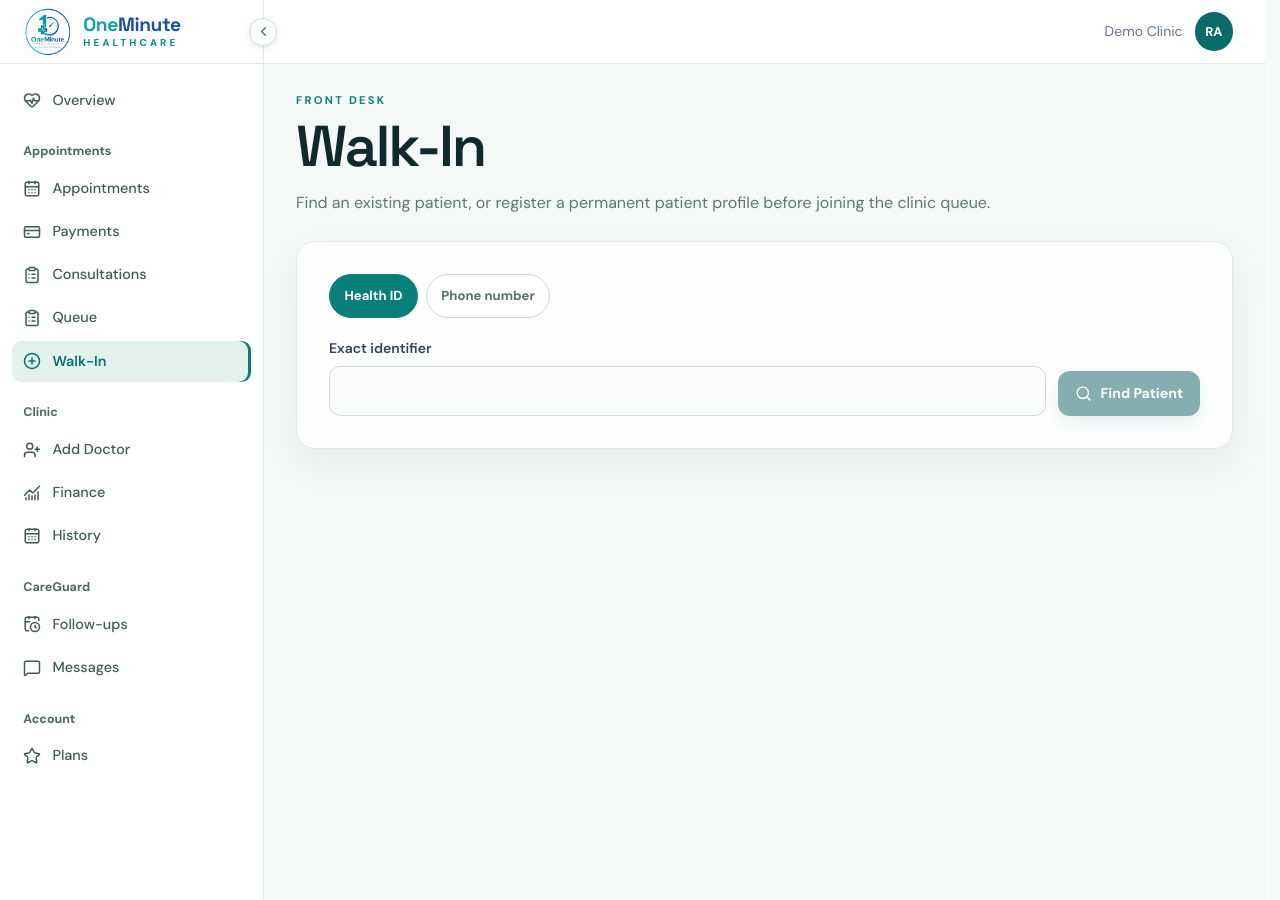
Test: Receptionist frontend › performs exact patient lookup and sends protected walk-in fields only
Type "OM-TEST" into the field labelled "Exact identifier" at (687, 391), box x1=329 y1=366 x2=1046 y2=416
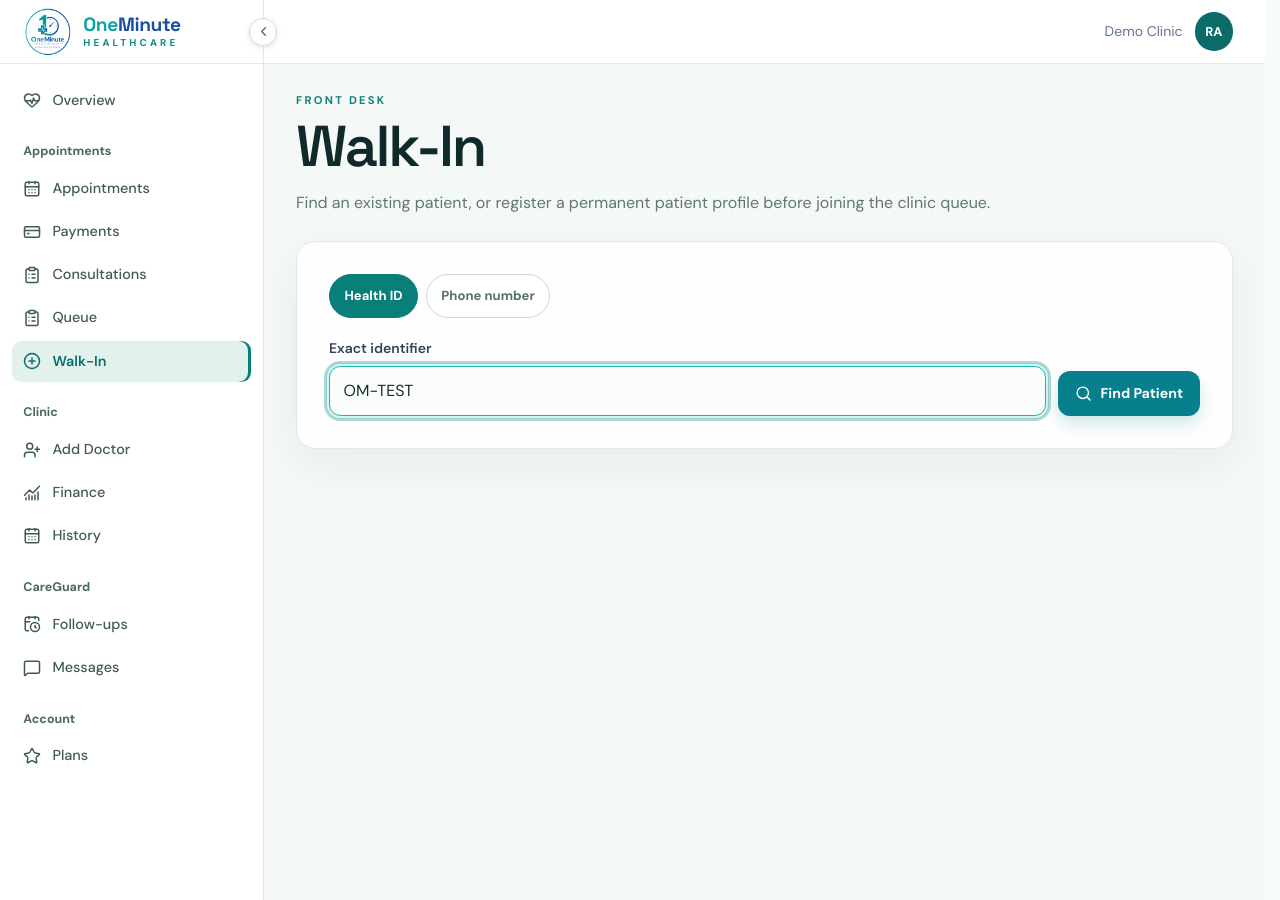
Click the button "Find Patient" at (1129, 393), box x1=1058 y1=371 x2=1200 y2=416
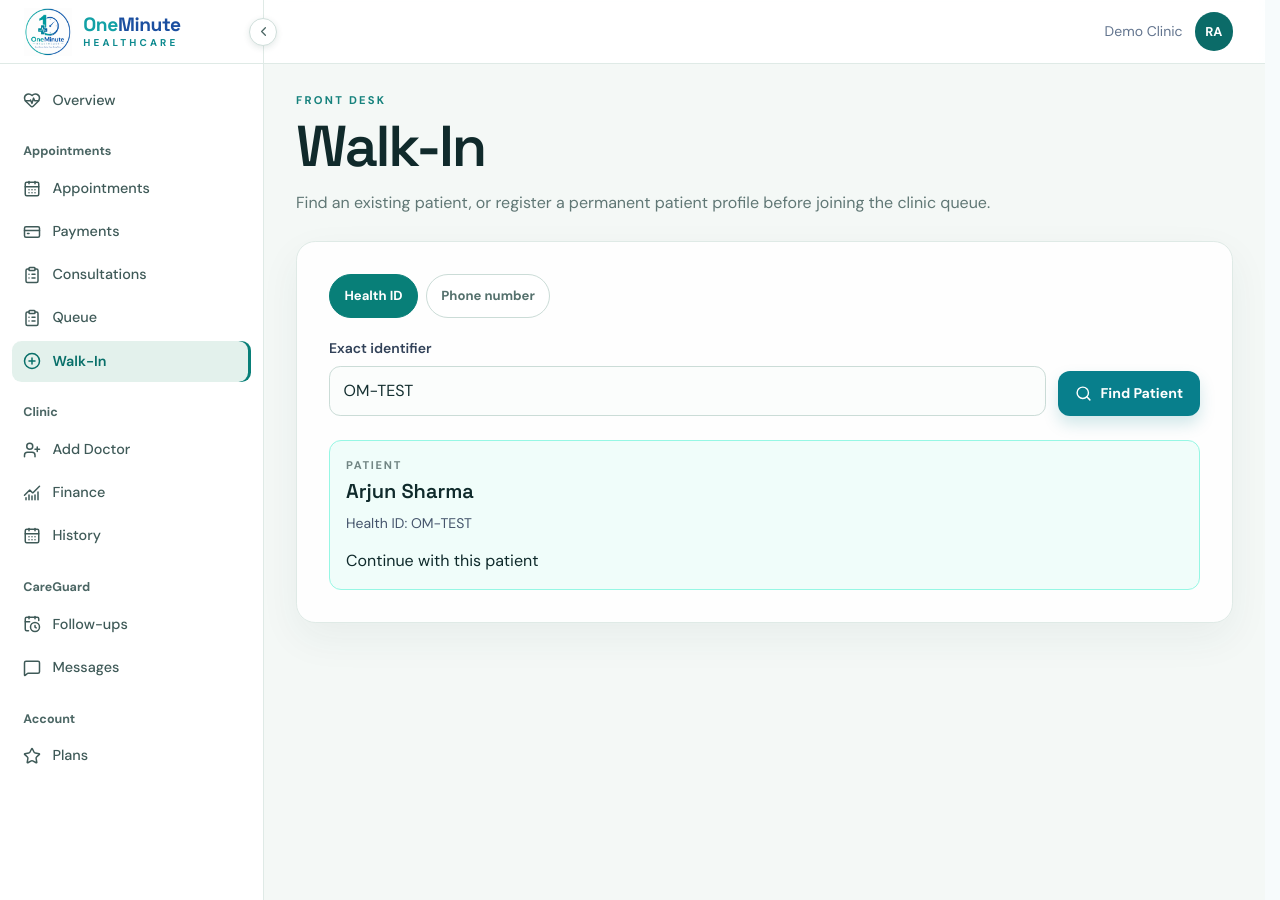
Expected: the text "Arjun Sharma" is shown, x1=346 y1=478 x2=474 y2=504
Click the button "Continue with this patient" at (442, 562), box x1=346 y1=550 x2=538 y2=574
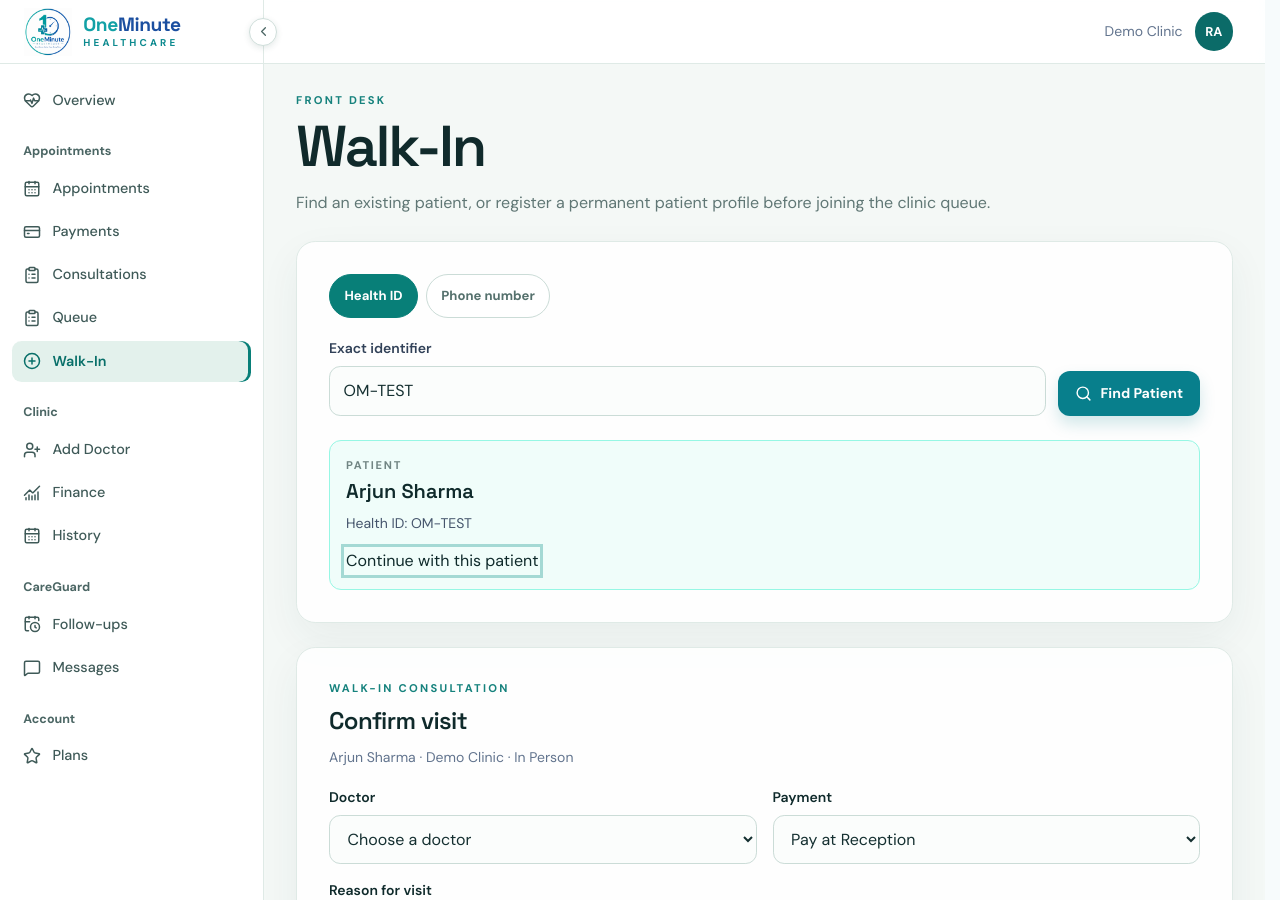
Select "Dr. Demo" in the dropdown labelled "Doctor" at (543, 839), box x1=329 y1=815 x2=756 y2=864
(page scrolled)
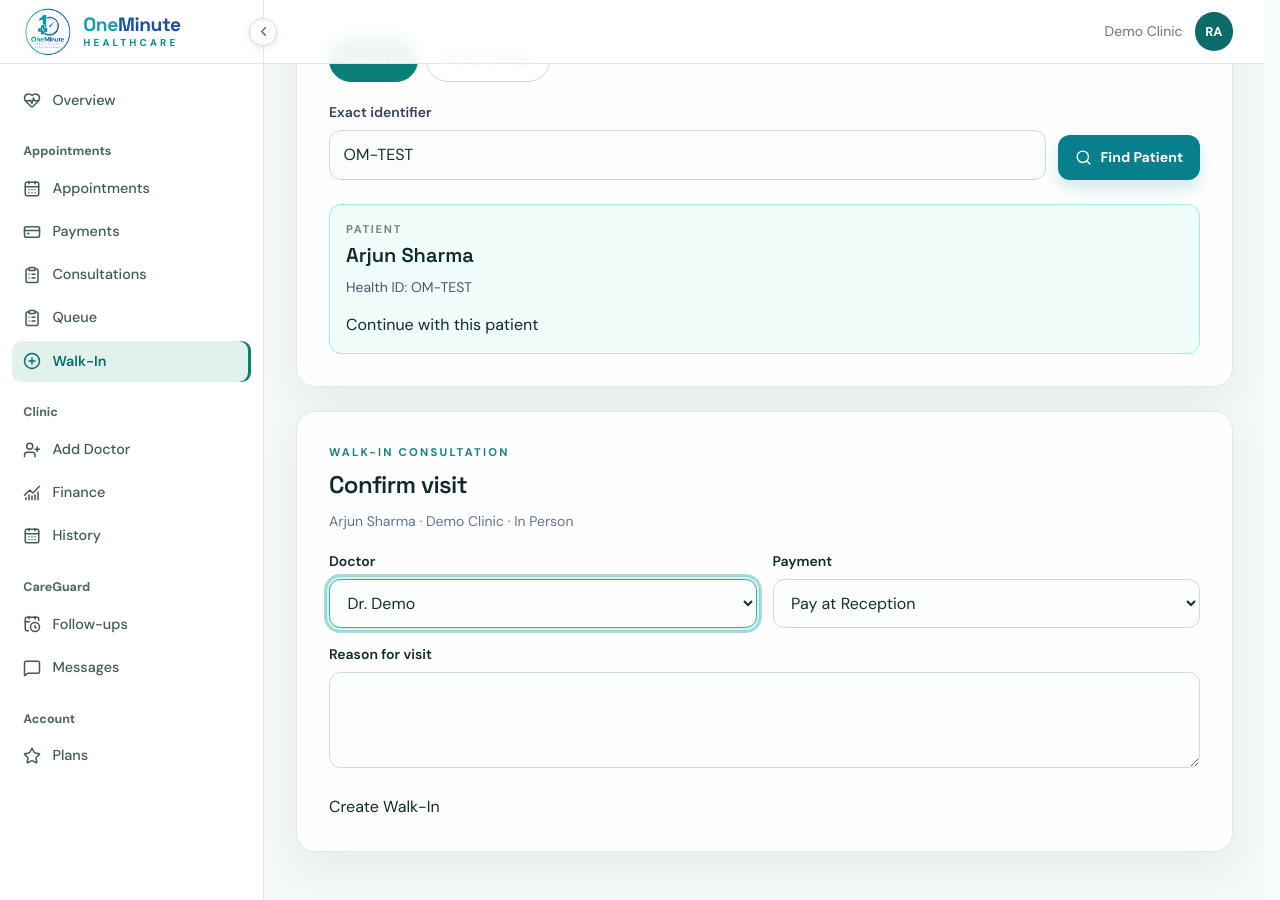
Type "Walk-in check" into the text box labelled "Reason for visit" at (764, 720), box x1=329 y1=672 x2=1200 y2=768
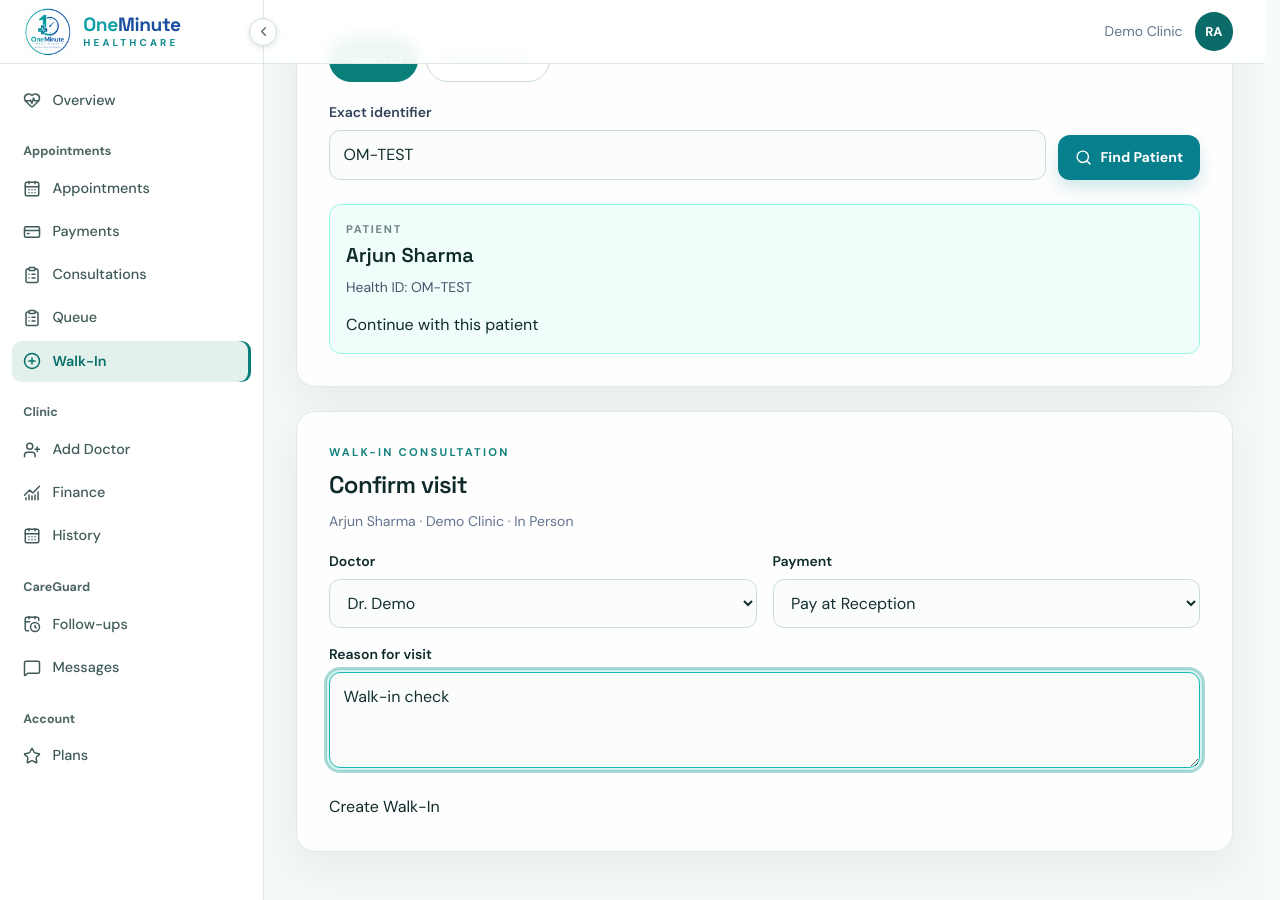
Click the button "Create Walk-In" at (384, 807), box x1=329 y1=795 x2=440 y2=819
(page scrolled)
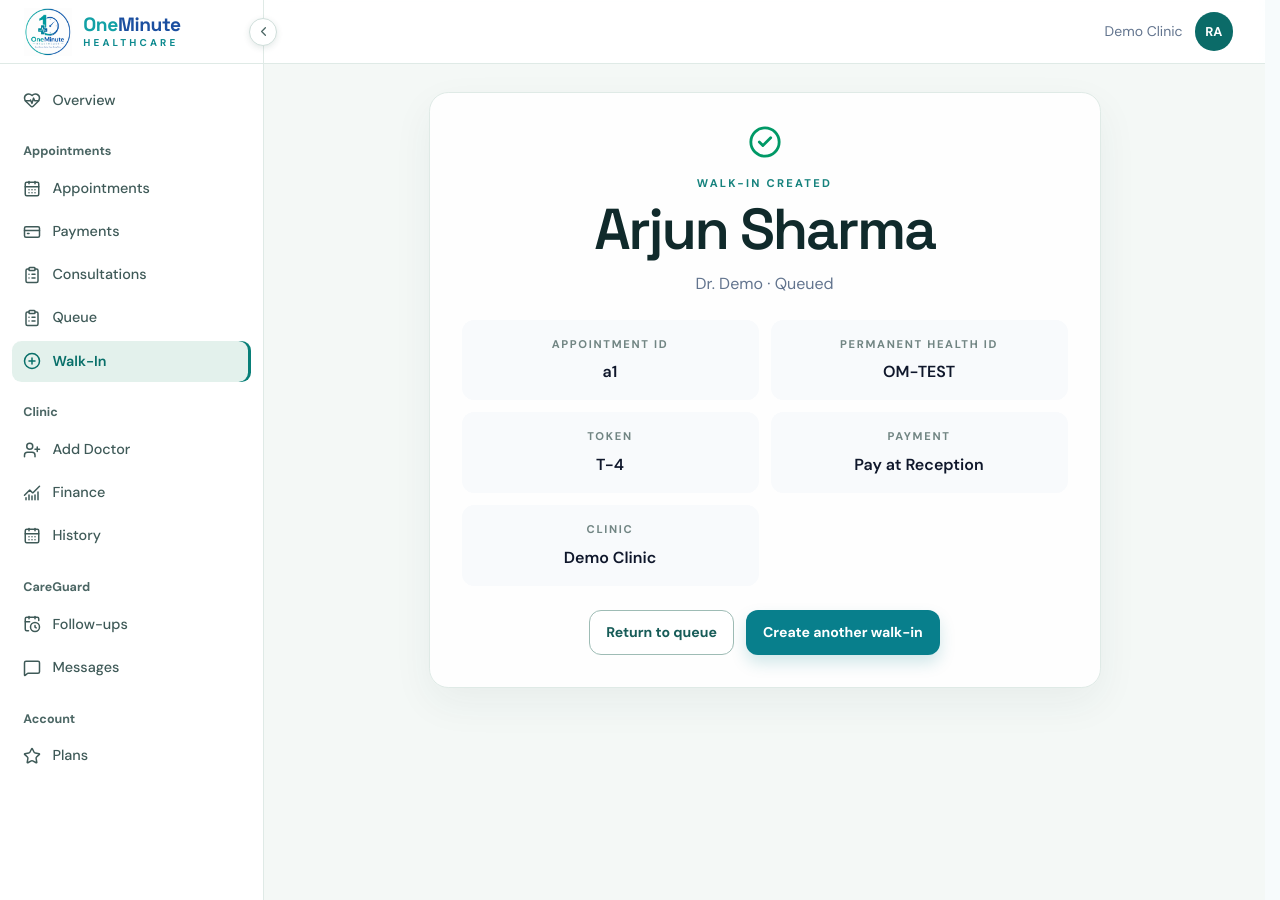
Expected: the text "OM-TEST" is shown, x1=883 y1=362 x2=955 y2=382
Expected: the text "T-4" is shown, x1=596 y1=454 x2=624 y2=475
